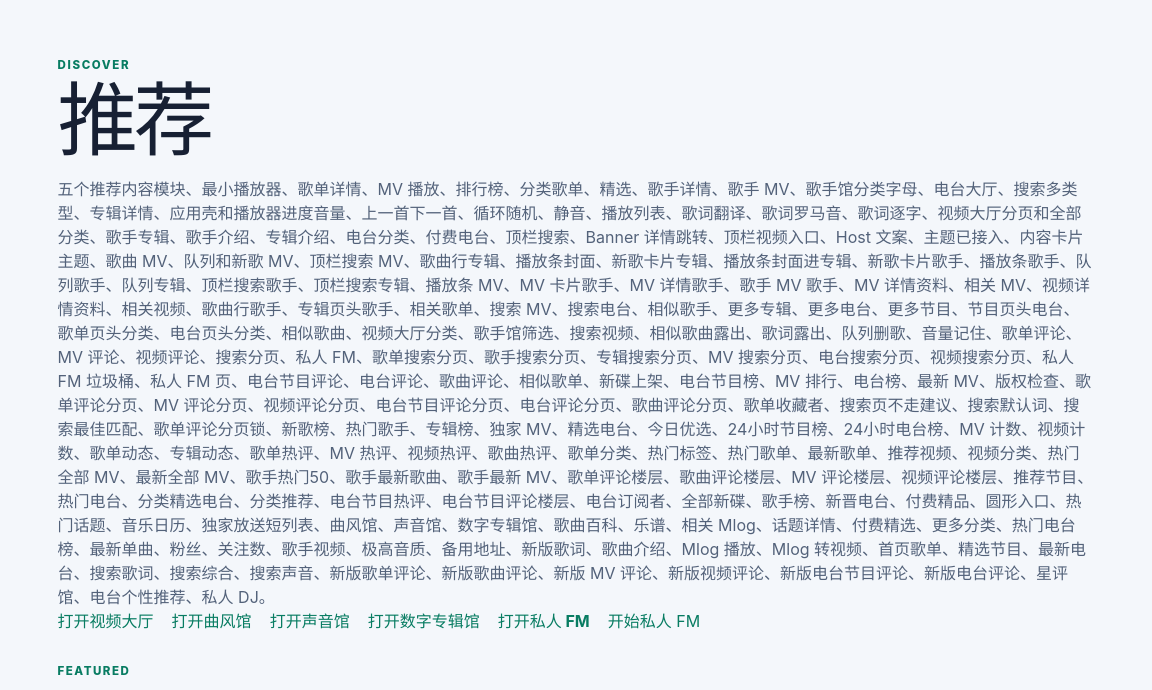
Test: DiscoverView › starts personal FM from the discover page
Click the button with test id "start-fm".
click(654, 620)  # box [608,608,700,632]
(page scrolled)
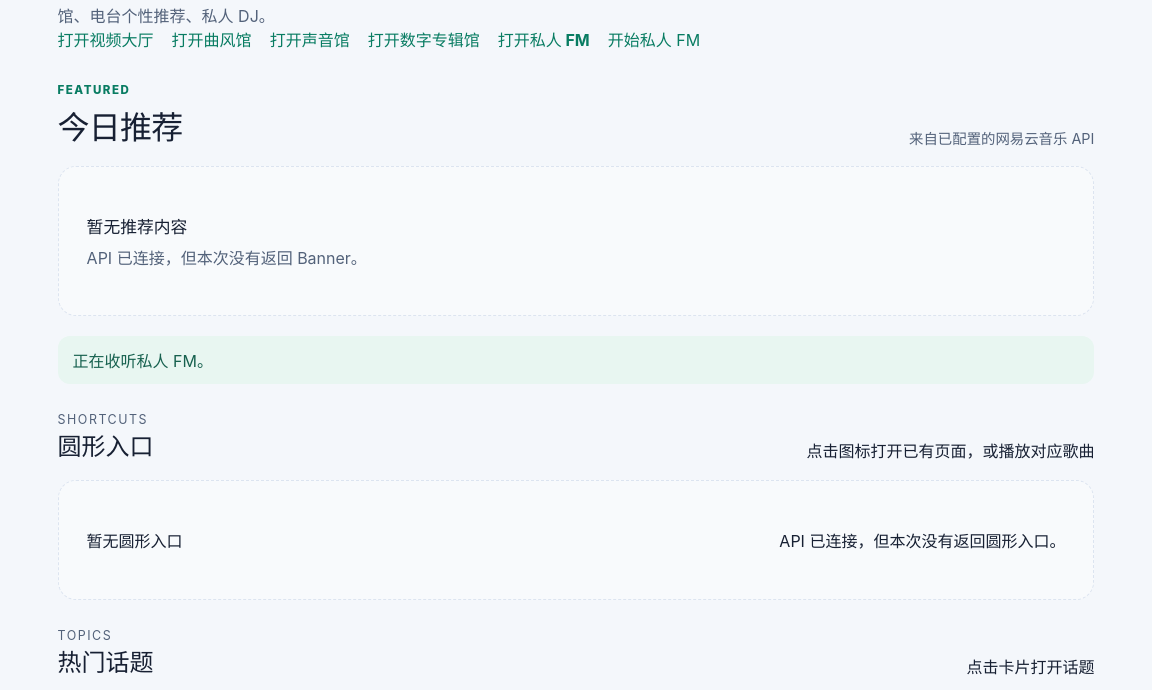
expect the message "正在收听私人 FM。" is shown: met, box [58,336,1094,384]
